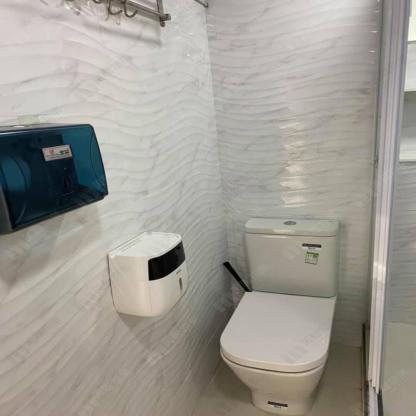Toilet: (216, 214, 340, 414)
